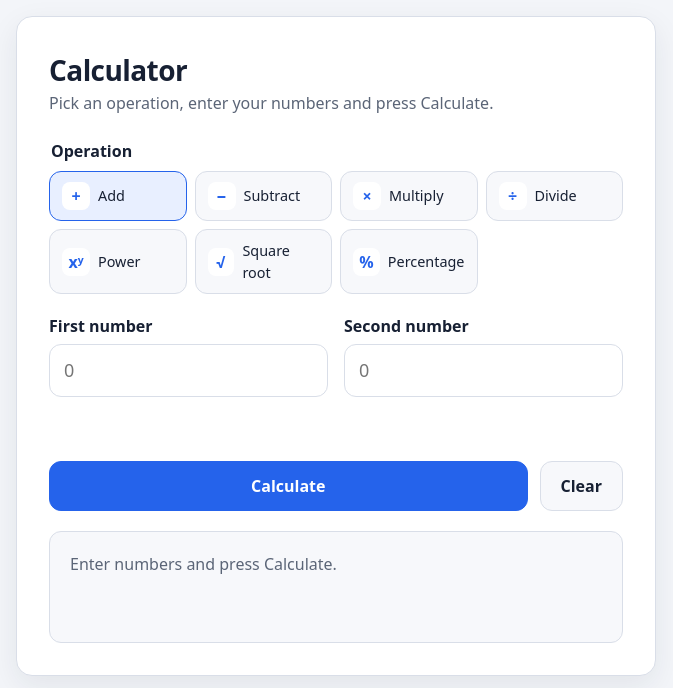
Scenario: Calculator › clears inputs and result
In the field labelled "First number": (188, 371) top-left (49, 344), bottom-right (328, 397), type "1"
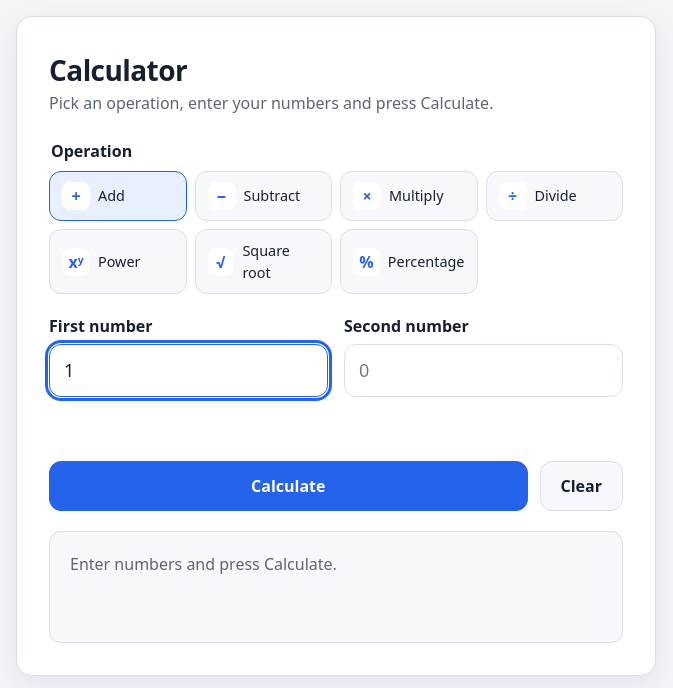
In the field labelled "Second number": (484, 371) top-left (344, 344), bottom-right (623, 397), type "2"
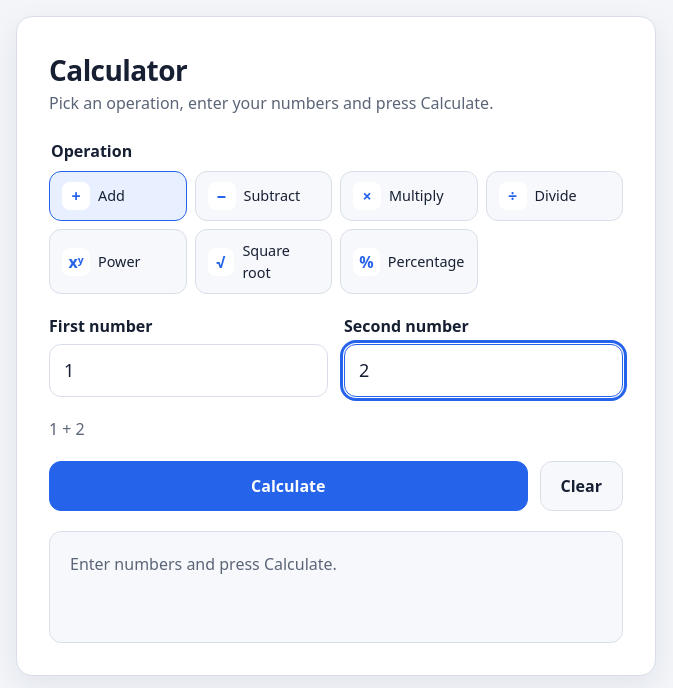
Click the button "Calculate": (288, 486) top-left (49, 461), bottom-right (528, 511)
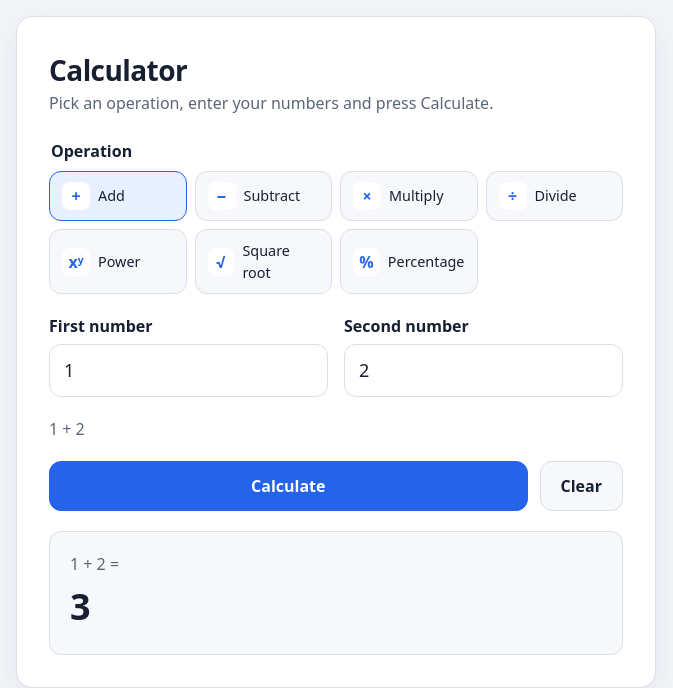
Now the text "3" is shown, box top-left (70, 582), bottom-right (91, 631)
Click the button "Clear": (581, 486) top-left (540, 461), bottom-right (623, 511)
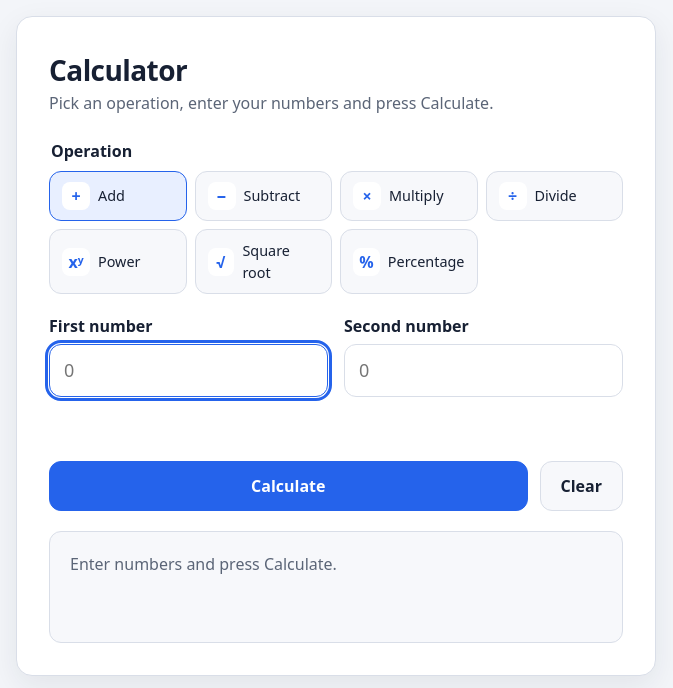
Now the field labelled "First number" is empty, box top-left (49, 344), bottom-right (328, 397)
Now the text "Enter numbers and press Calculate." is shown, box top-left (70, 553), bottom-right (337, 575)
